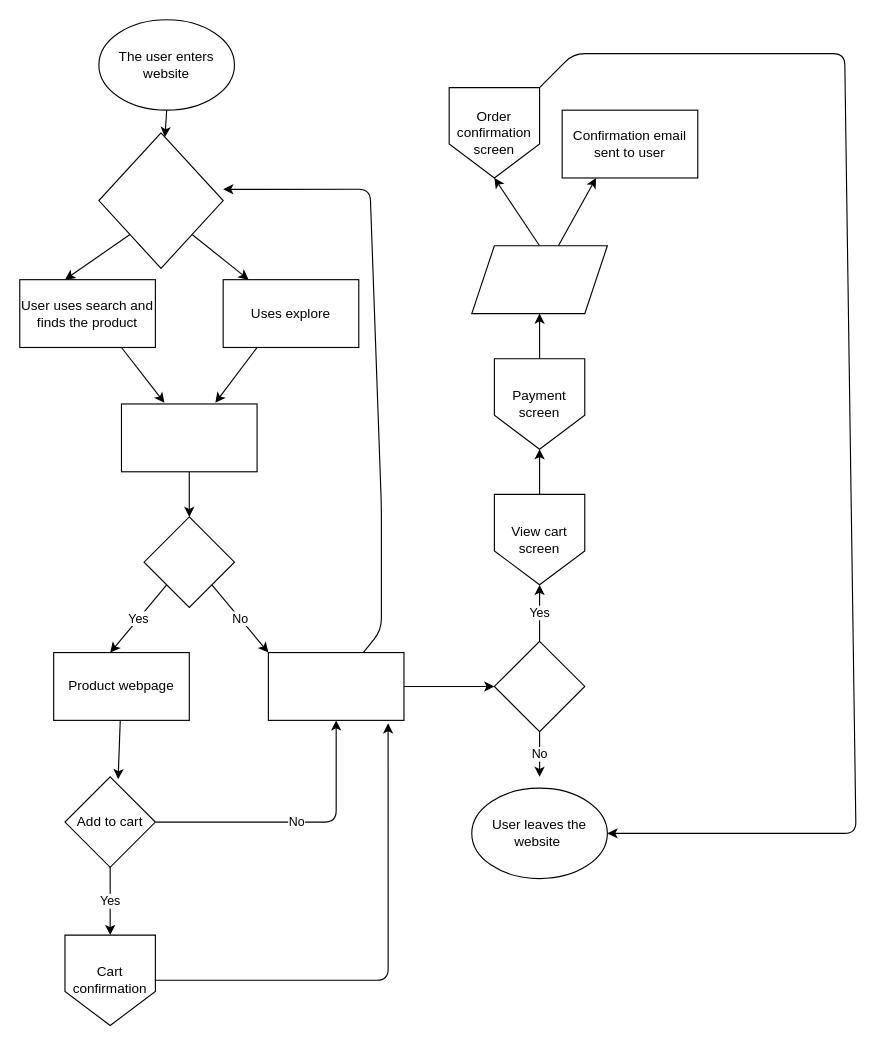
This 885x1045 diagram has some shape labels left out. The centre of each missing label's shape, as x and y in pixels:
"Checkout?" goes at point (539, 686).
"Continue shopping" goes at point (335, 685).
"Explores all products" goes at point (188, 437).
"Input of payment info" goes at point (539, 279).
"User chooses either to search or explore" goes at point (160, 200).
"View specific product" goes at point (188, 561).
